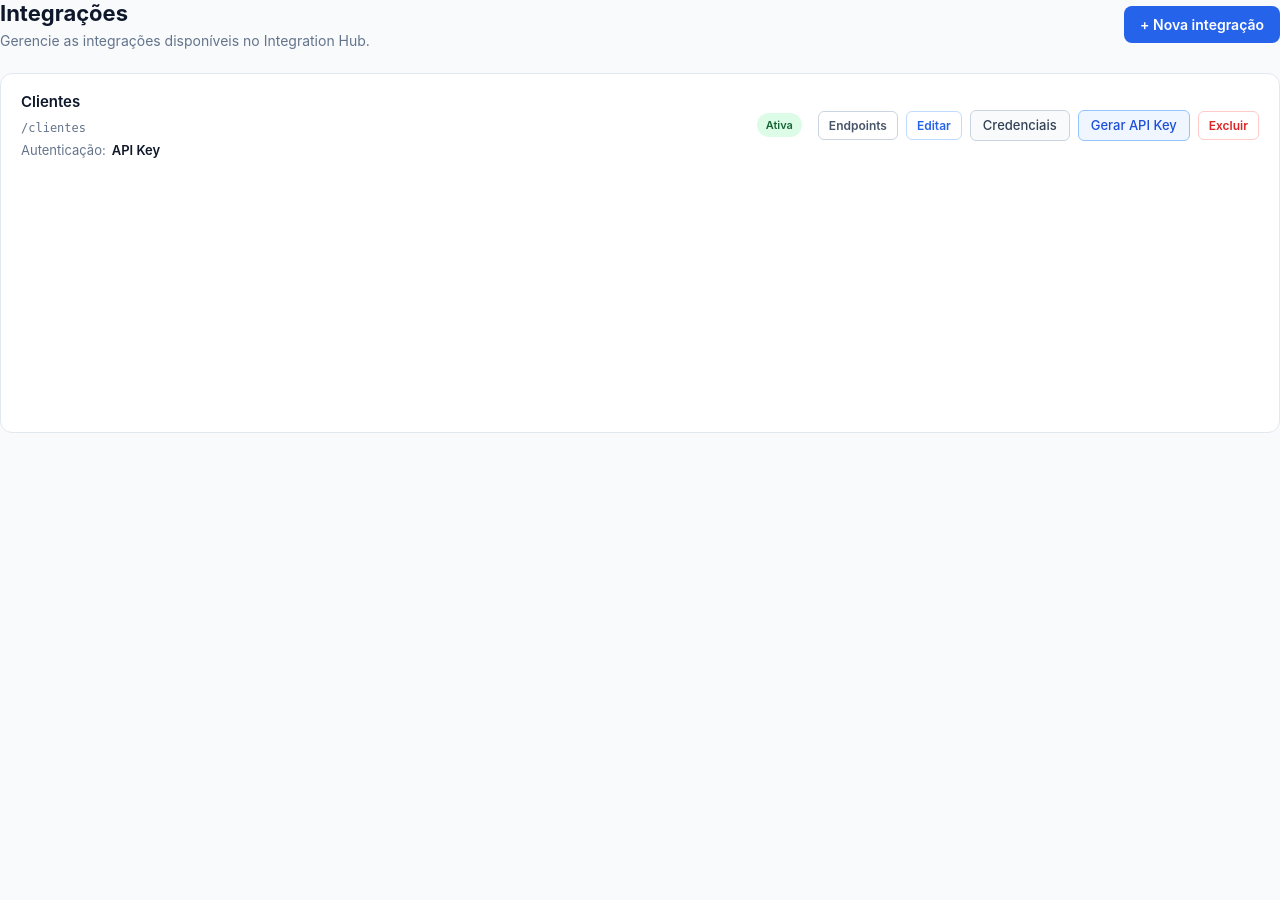
IntegrationsPage › gera API Key após confirmação e a exibe uma única vez
The width and height of the screenshot is (1280, 900).
expect the heading "Clientes" is shown: met, box x1=21 y1=92 x2=80 y2=111
Click the button "Gerar API Key".
click(1134, 125)  # box x1=1078 y1=110 x2=1190 y2=140
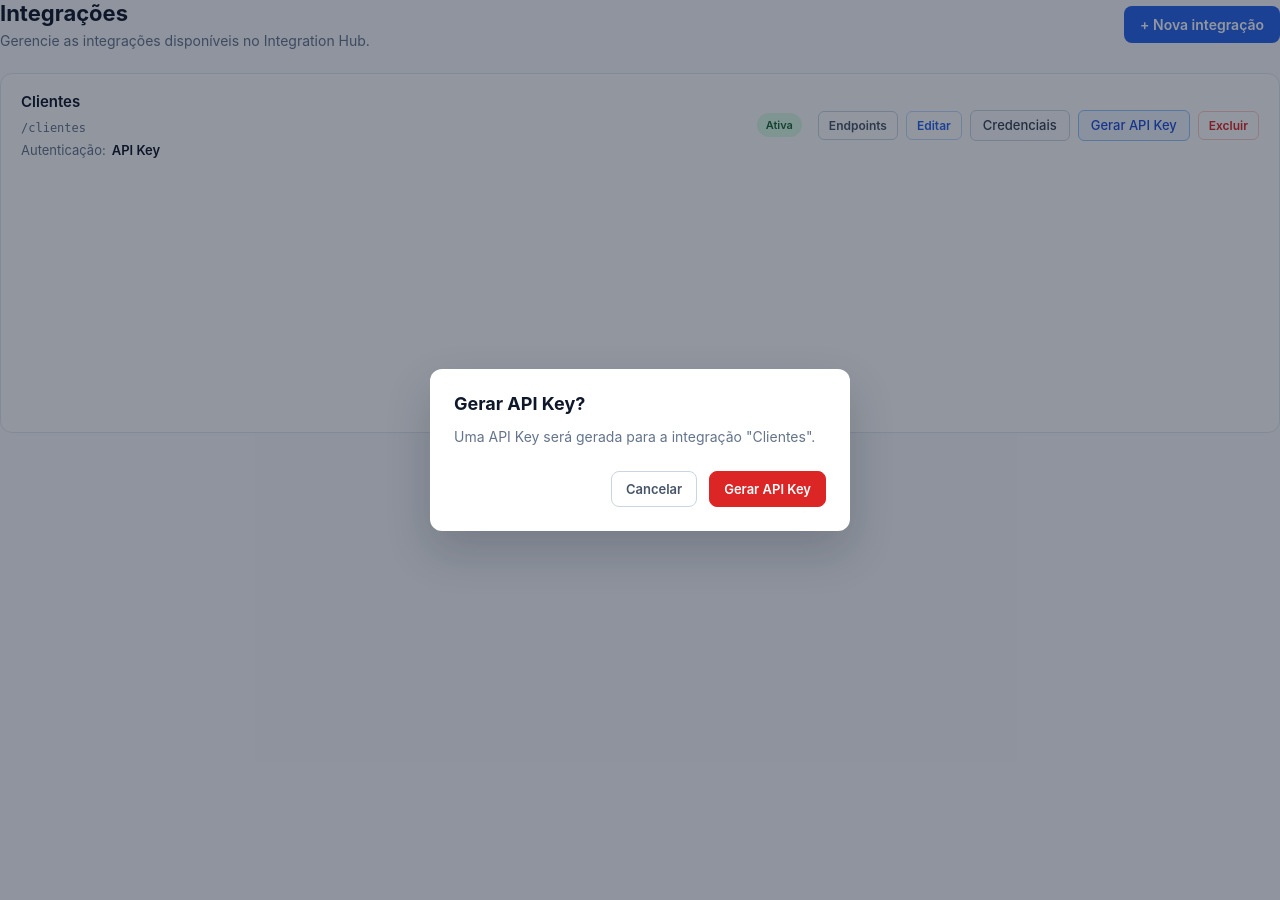
expect the dialog shows "Uma API Key será gerada": met, box x1=454 y1=428 x2=815 y2=445
Click the button "Gerar API Key".
click(768, 489)  # box x1=709 y1=471 x2=826 y2=507
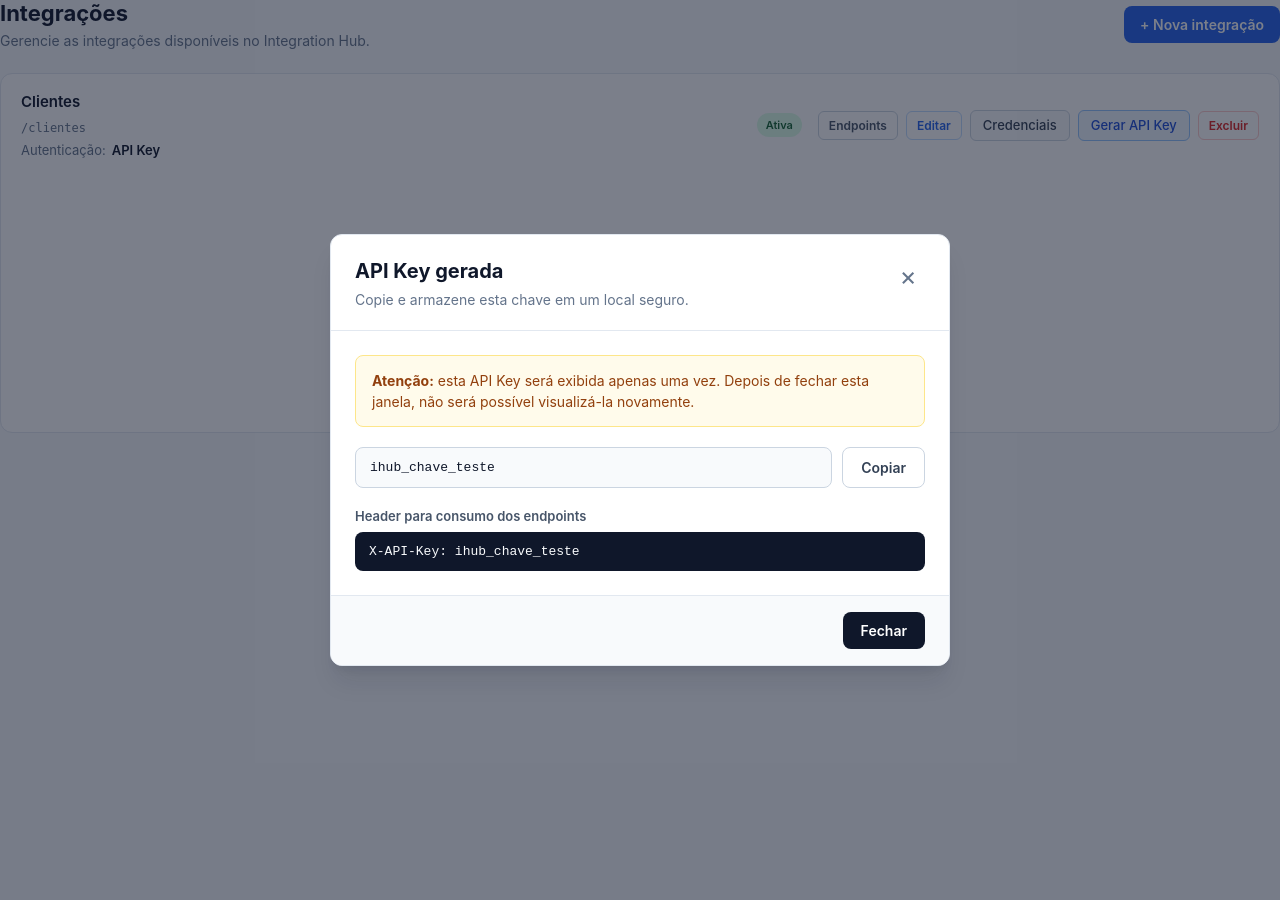
expect the text "ihub_chave_teste" is shown: met, box x1=355 y1=447 x2=832 y2=488
